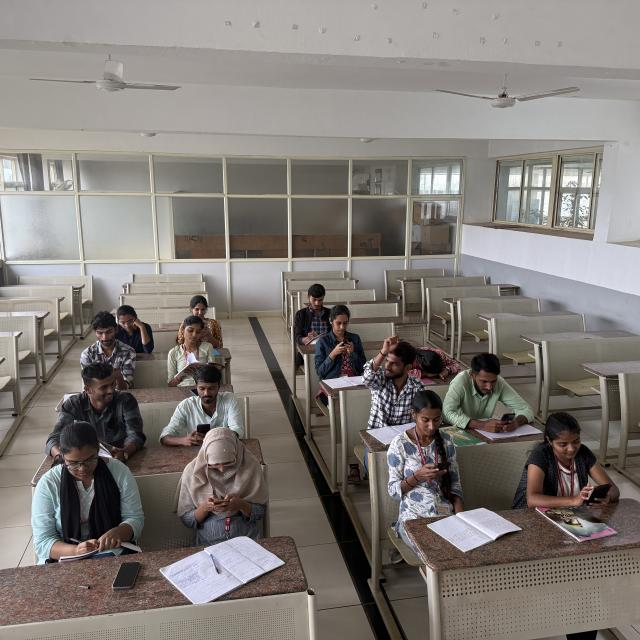Hand Rising: (360, 331, 435, 425)
Reading: (159, 320, 235, 383)
Sleeping: (400, 320, 475, 381)
Using Phone: (521, 401, 640, 505), (172, 435, 282, 539), (442, 354, 552, 434), (394, 392, 474, 493), (158, 366, 260, 443), (165, 286, 238, 340), (317, 310, 362, 378)
Writing: (22, 430, 150, 566), (278, 281, 338, 344)
